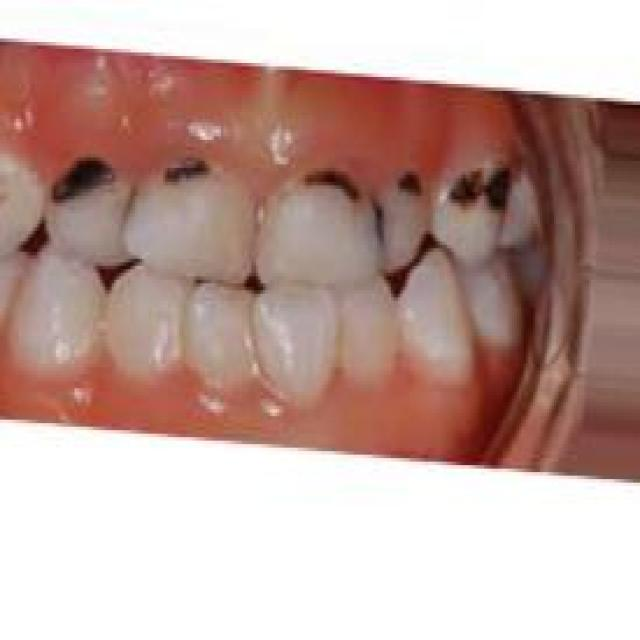caries: (46, 132, 122, 237), (296, 150, 372, 238), (442, 147, 517, 235), (154, 127, 217, 195), (385, 154, 432, 226)
